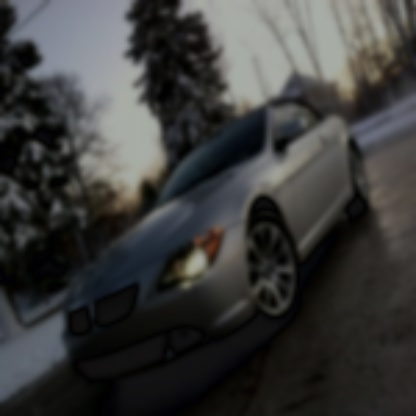Vehicle: (58, 95, 373, 392)
